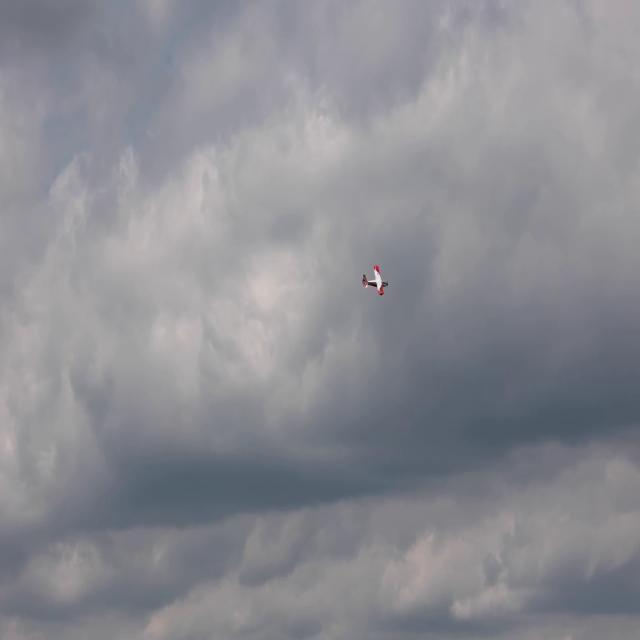iha: (358, 262, 392, 300)
